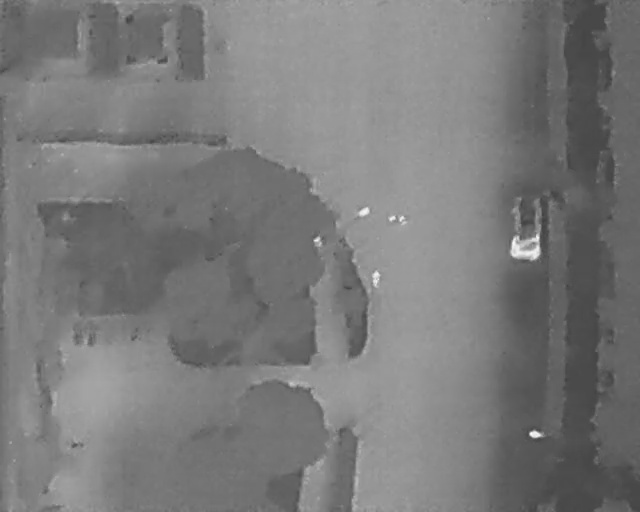Car: (507, 192, 544, 261)
